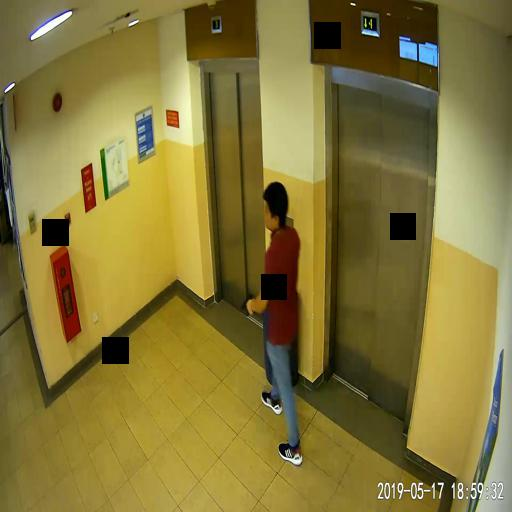Handgun: (240, 291, 253, 315)
